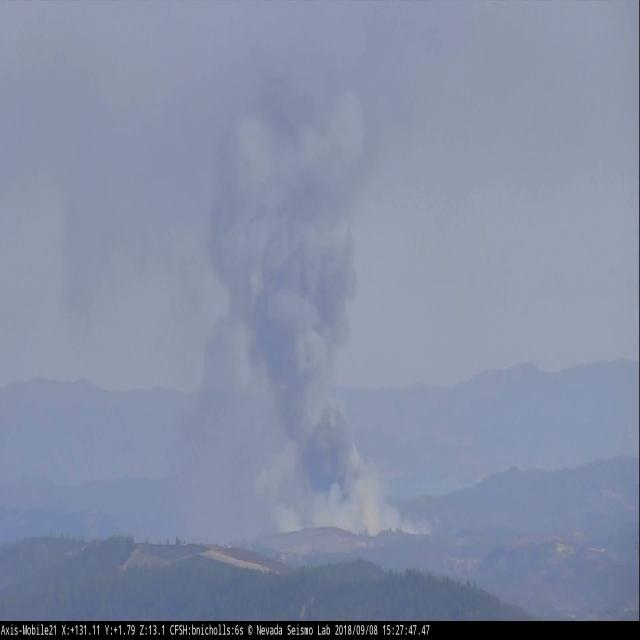smoke: (202, 76, 435, 534)
